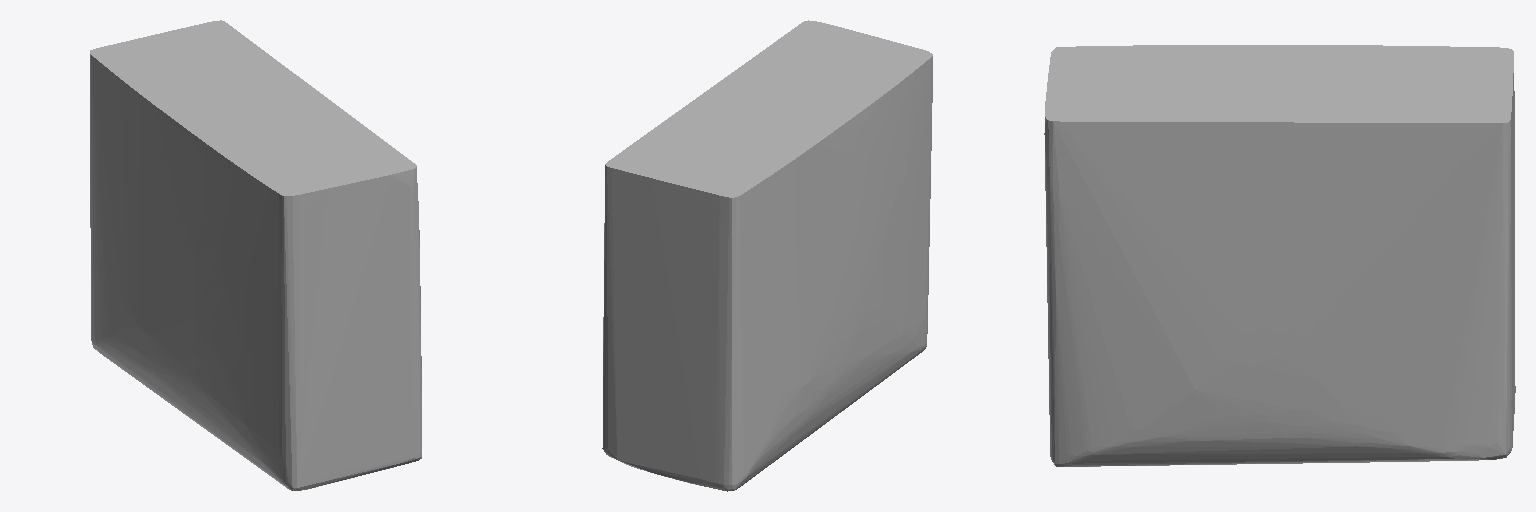
robot.urdf — root:
<robot name="root"><link name="body"><visual>
      <origin xyz="0 0 0" rpy="0 0 0" />
      <geometry>
        <mesh filename="coacd_convex_piece_0.obj" scale="1.0000E+00 1.0000E+00 1.0000E+00" />
      </geometry>
      <material name="">
        <color rgba="7.50E-01 7.50E-01 7.50E-01 1" />
      </material>
    </visual>
    <collision>
      <origin xyz="0 0 0" rpy="0 0 0" />
      <geometry>
        <mesh filename="coacd_convex_piece_0.obj" scale="1.0000E+00 1.0000E+00 1.0000E+00" />
      </geometry>
    </collision>
  <visual>
      <origin xyz="0 0 0" rpy="0 0 0" />
      <geometry>
        <mesh filename="coacd_convex_piece_1.obj" scale="1.0000E+00 1.0000E+00 1.0000E+00" />
      </geometry>
      <material name="">
        <color rgba="7.50E-01 7.50E-01 7.50E-01 1" />
      </material>
    </visual>
    <collision>
      <origin xyz="0 0 0" rpy="0 0 0" />
      <geometry>
        <mesh filename="coacd_convex_piece_1.obj" scale="1.0000E+00 1.0000E+00 1.0000E+00" />
      </geometry>
    </collision>
  </link></robot>

--- What the picture shows (computed from the rendered views, not written in the file) ---
Views: 3 orthographic renders of the robot side by side, from view 1: azimuth 30°, elevation 25°; view 2: azimuth 150°, elevation 25°; view 3: azimuth 270°, elevation 25°.
Robot: root — 1 links, 0 joints (none); root link body; default pose: every joint at zero.
Visible links, largest first — view 1: body; view 2: body; view 3: body.
Boxes of the visible links, <box> form: body: <box>90,20,421,490</box>; body: <box>602,20,932,491</box>; body: <box>1044,45,1515,466</box>.
Size in the robot's own frame: 0.53 by 1.18 by 0.9689 metres.
Meshes: 2 distinct files referenced, 1 mesh visuals loaded (1 OBJ); not drawn: 1 (reference not matched to a file when rendering).